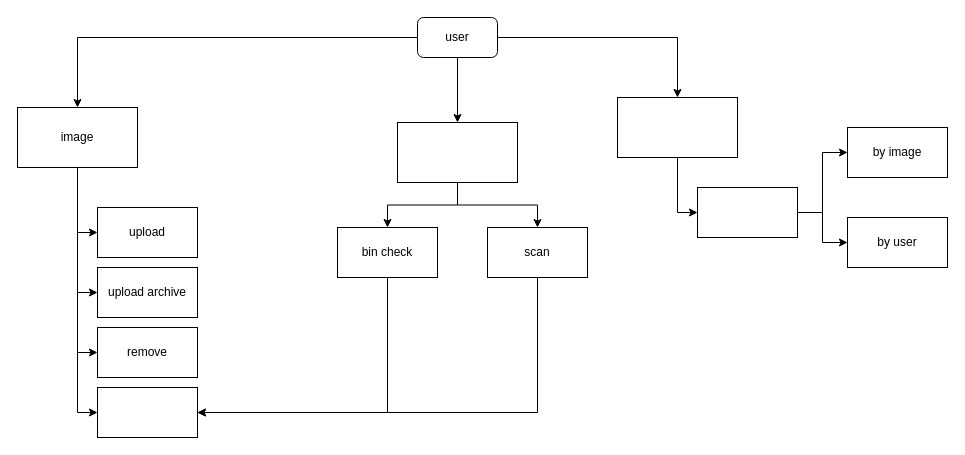
Some shapes in this 965 by 455 pixel diagram are drawn without their labels. Each missing label, with the box of its shape:
get_image: (96, 386, 198, 438)
get_scans: (696, 186, 798, 238)
ML: (396, 122, 518, 182)
scans: (616, 96, 738, 158)
